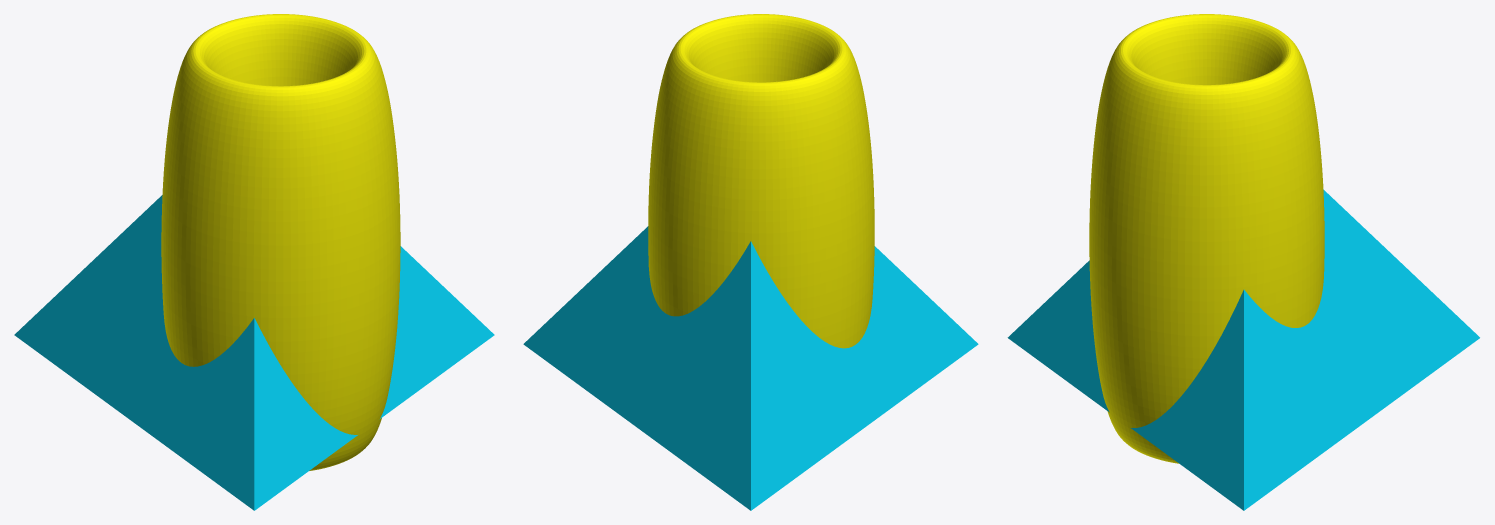
The picture shows the model from 3 angles, left to right: view 1: azimuth 30°, elevation 25°; view 2: azimuth 150°, elevation 25°; view 3: azimuth 270°, elevation 25°; orthographic projection. The views are drawn at different scales.
Parts seen in each view (by area): view 1: Object.2, Object.1; view 2: Object.2, Object.1; view 3: Object.2, Object.1.
Part boxes in pixels (<box>): Object.2: <box>161,14,400,470</box>; Object.1: <box>14,195,494,510</box>; Object.2: <box>648,14,874,348</box>; Object.1: <box>523,226,978,510</box>; Object.2: <box>1089,14,1324,463</box>; Object.1: <box>1007,189,1479,510</box>.
Bounding box in the file's own units: 122 × 126 × 141.
